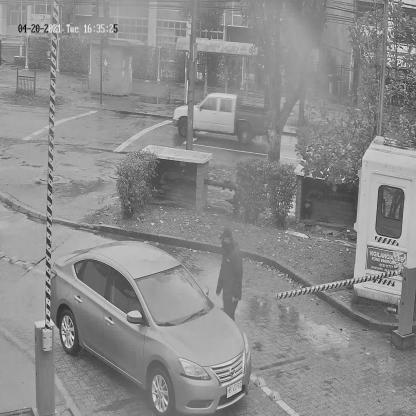Patente: (227, 379, 243, 400)
